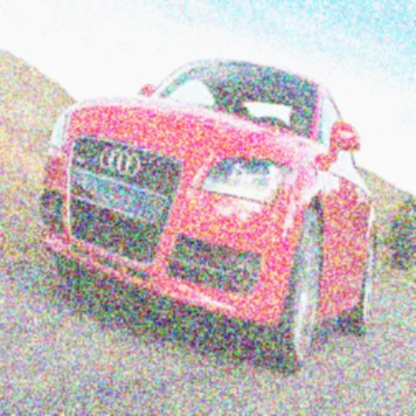Vehicle: (40, 62, 380, 378)
